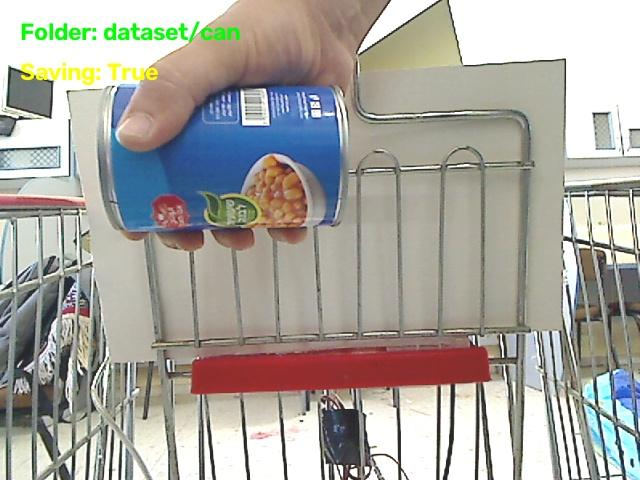can: (98, 85, 346, 231)
